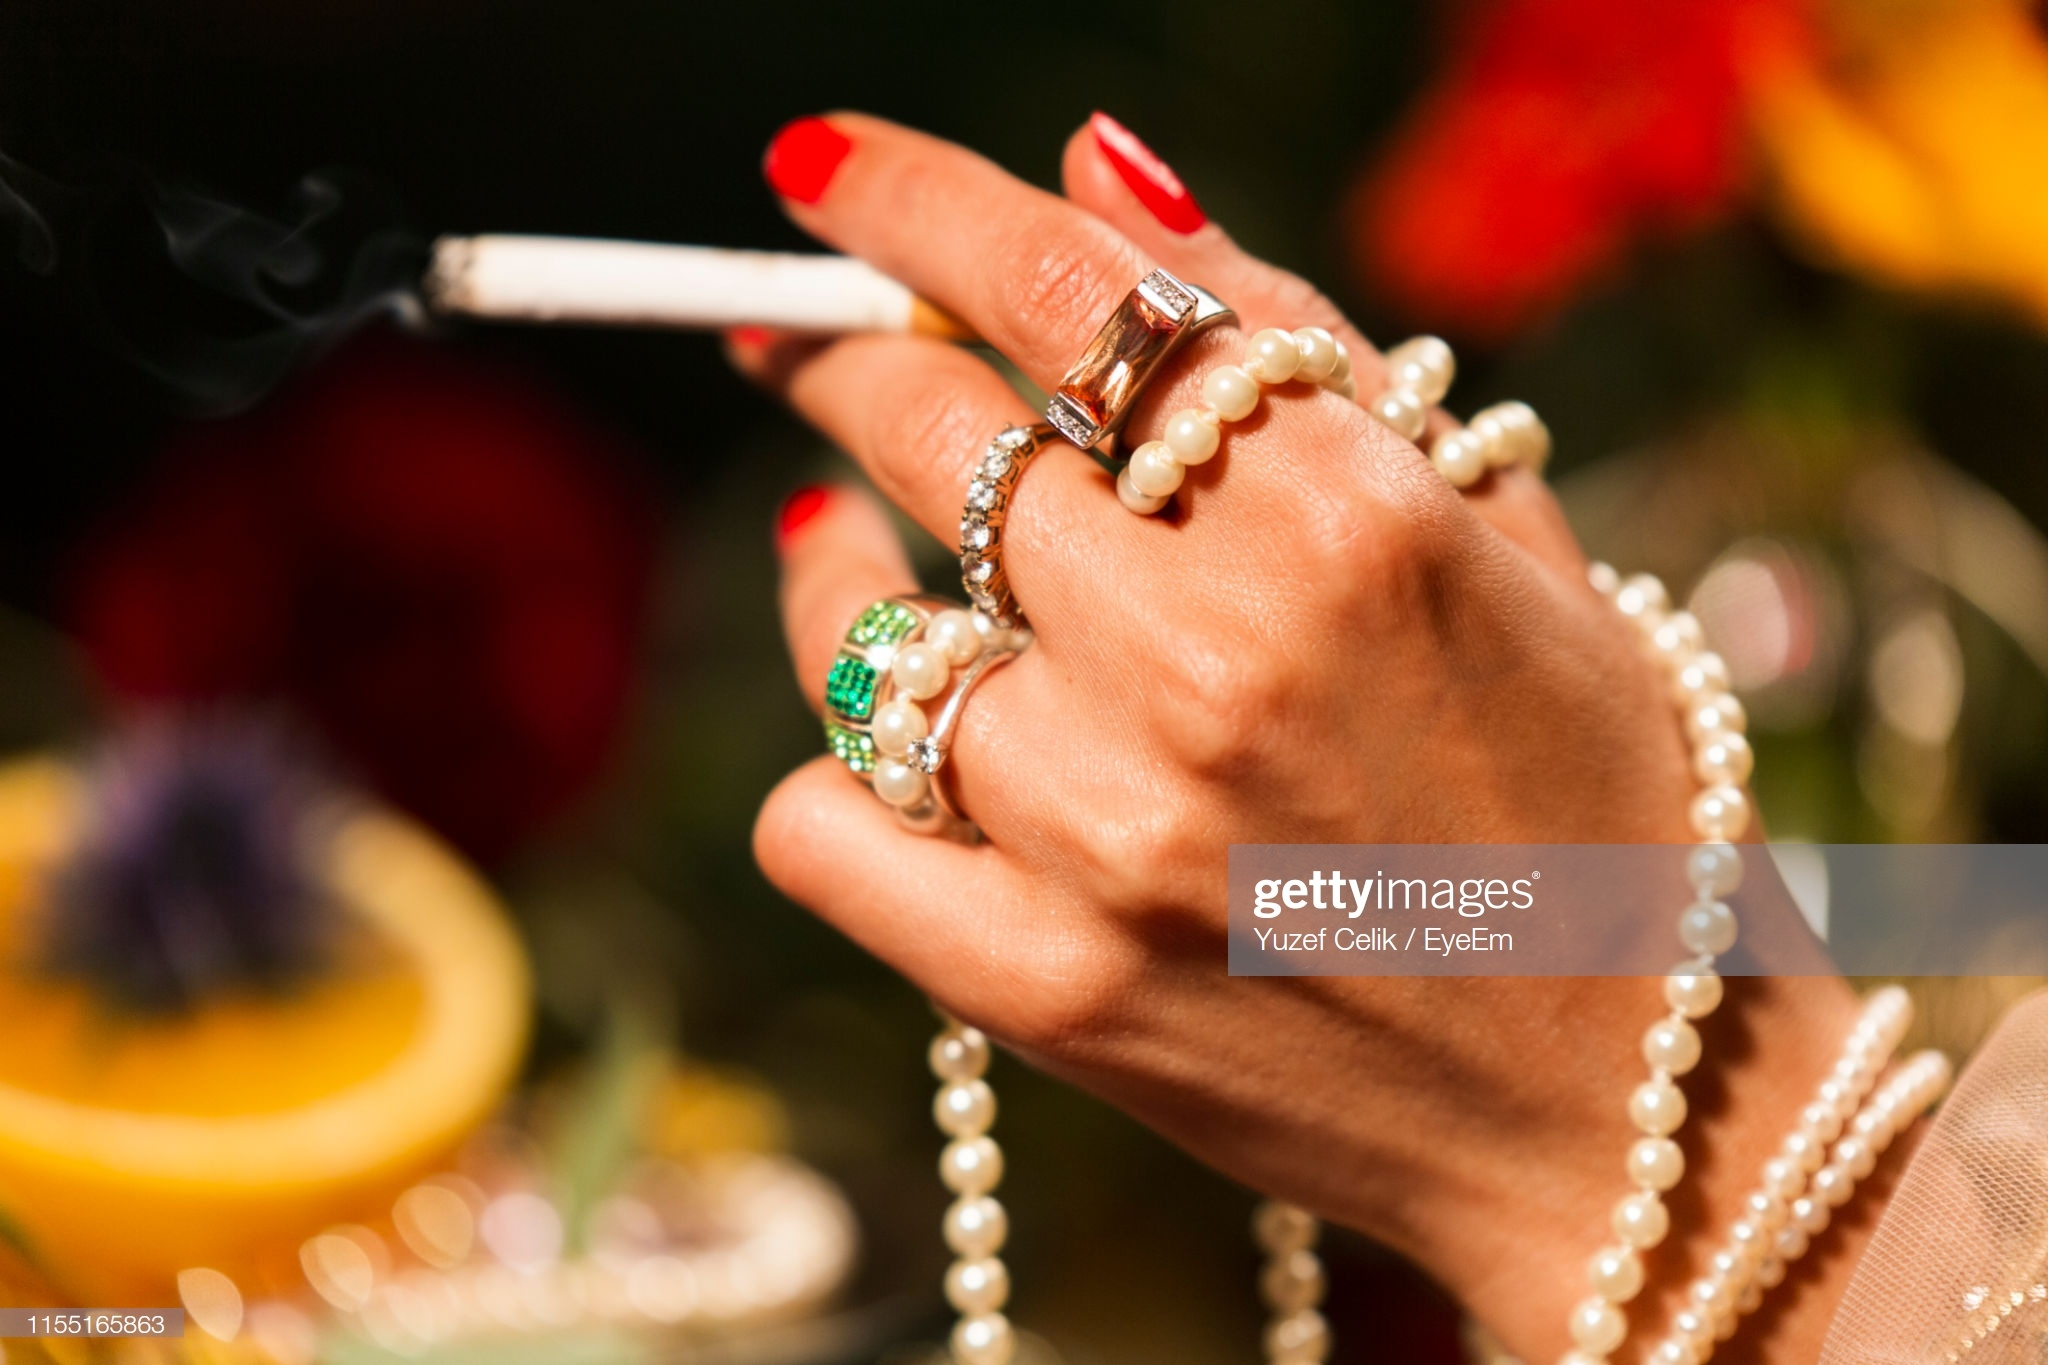sigaretta: (384, 238, 1121, 338)
